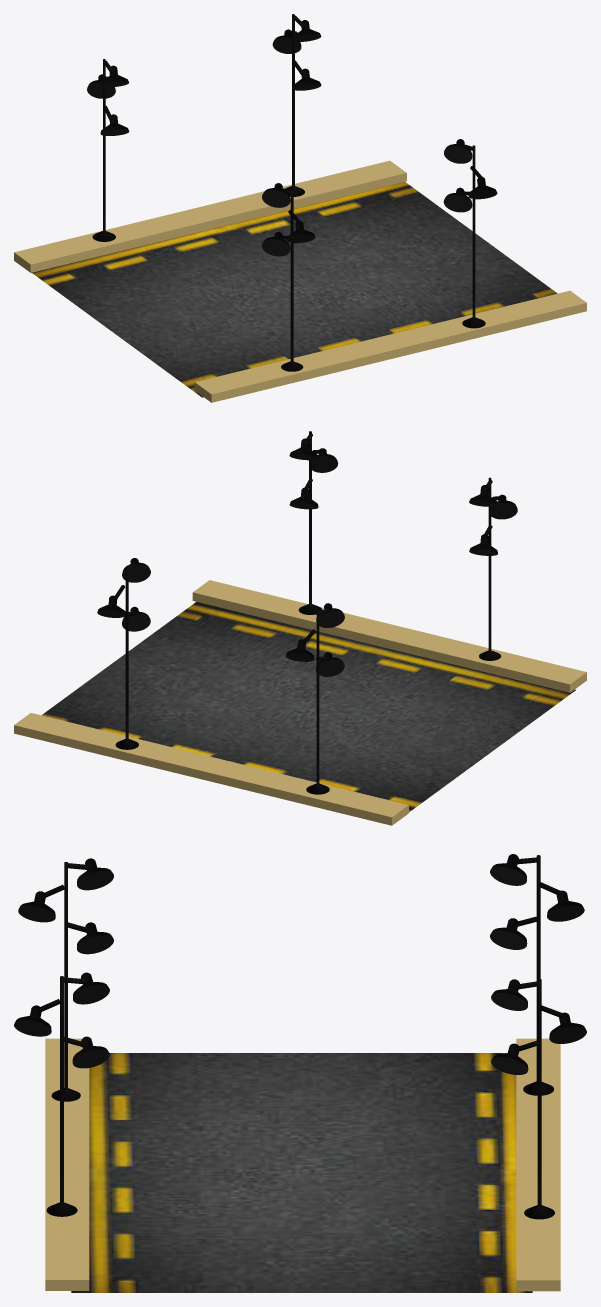
File: pallavi lamp plane.fbx
3 views of the same model, one above another, from view 1: azimuth 30°, elevation 25°; view 2: azimuth 150°, elevation 25°; view 3: azimuth 270°, elevation 25° (orthographic). The views are drawn at different scales.
Visible parts, largest first — view 1: Plane.001, Cube, Cube.001, Cylinder.002, Cylinder.000, Cylinder.003, Cylinder.001; view 2: Plane.001, Cube.001, Cube, Cylinder.001, Cylinder.003, Cylinder.000, Cylinder.002; view 3: Plane.001, Cube.001, Cube, Cylinder.003, Cylinder.002, Cylinder.000, Cylinder.001.
Boxes of the visible parts, x1,y1,x2,y2 form: Plane.001: (32, 182, 557, 397); Cube: (194, 290, 586, 402); Cube.001: (14, 160, 406, 272); Cylinder.002: (443, 139, 497, 328); Cylinder.000: (262, 183, 315, 371); Cylinder.003: (272, 14, 321, 196); Cylinder.001: (87, 59, 129, 241); Plane.001: (42, 602, 575, 811); Cube.001: (14, 713, 408, 825); Cube: (192, 580, 586, 692); Cylinder.001: (285, 603, 344, 794); Cylinder.003: (97, 558, 150, 749); Cylinder.000: (469, 477, 517, 660); Cylinder.002: (289, 431, 338, 614); Plane.001: (71, 1053, 532, 1292); Cube.001: (516, 1038, 560, 1291); Cube: (45, 1038, 89, 1290); Cylinder.003: (491, 978, 586, 1219); Cylinder.002: (14, 972, 109, 1216); Cylinder.000: (18, 858, 113, 1101); Cylinder.001: (490, 854, 584, 1095).
Bounding box in the file's own units: 809 × 388 × 808.
